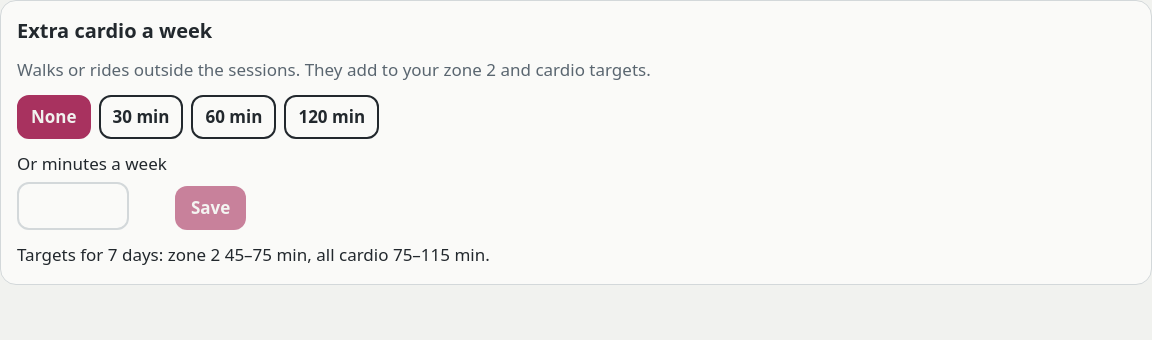
Test: a refused save says why (invalid)
Click the button "30 min".
click(141, 117)  # box left=99, top=95, right=184, bottom=139
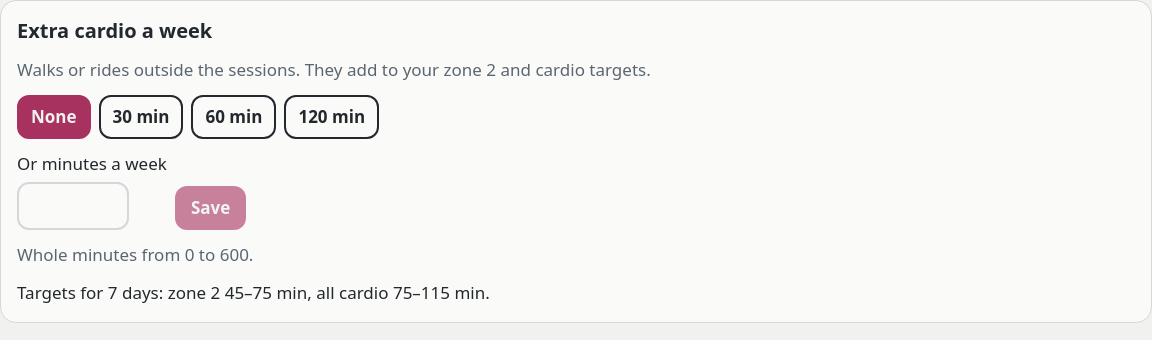
expect the text "Whole minutes from 0 to 600." is shown: met, box left=17, top=243, right=253, bottom=266
